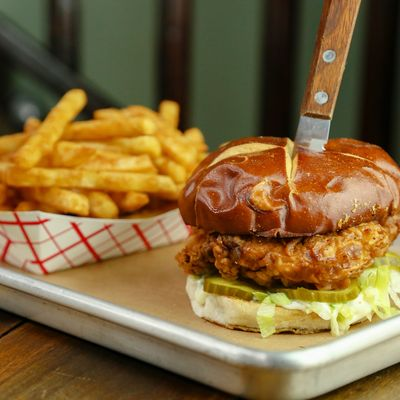soup: (176, 124, 400, 338)
